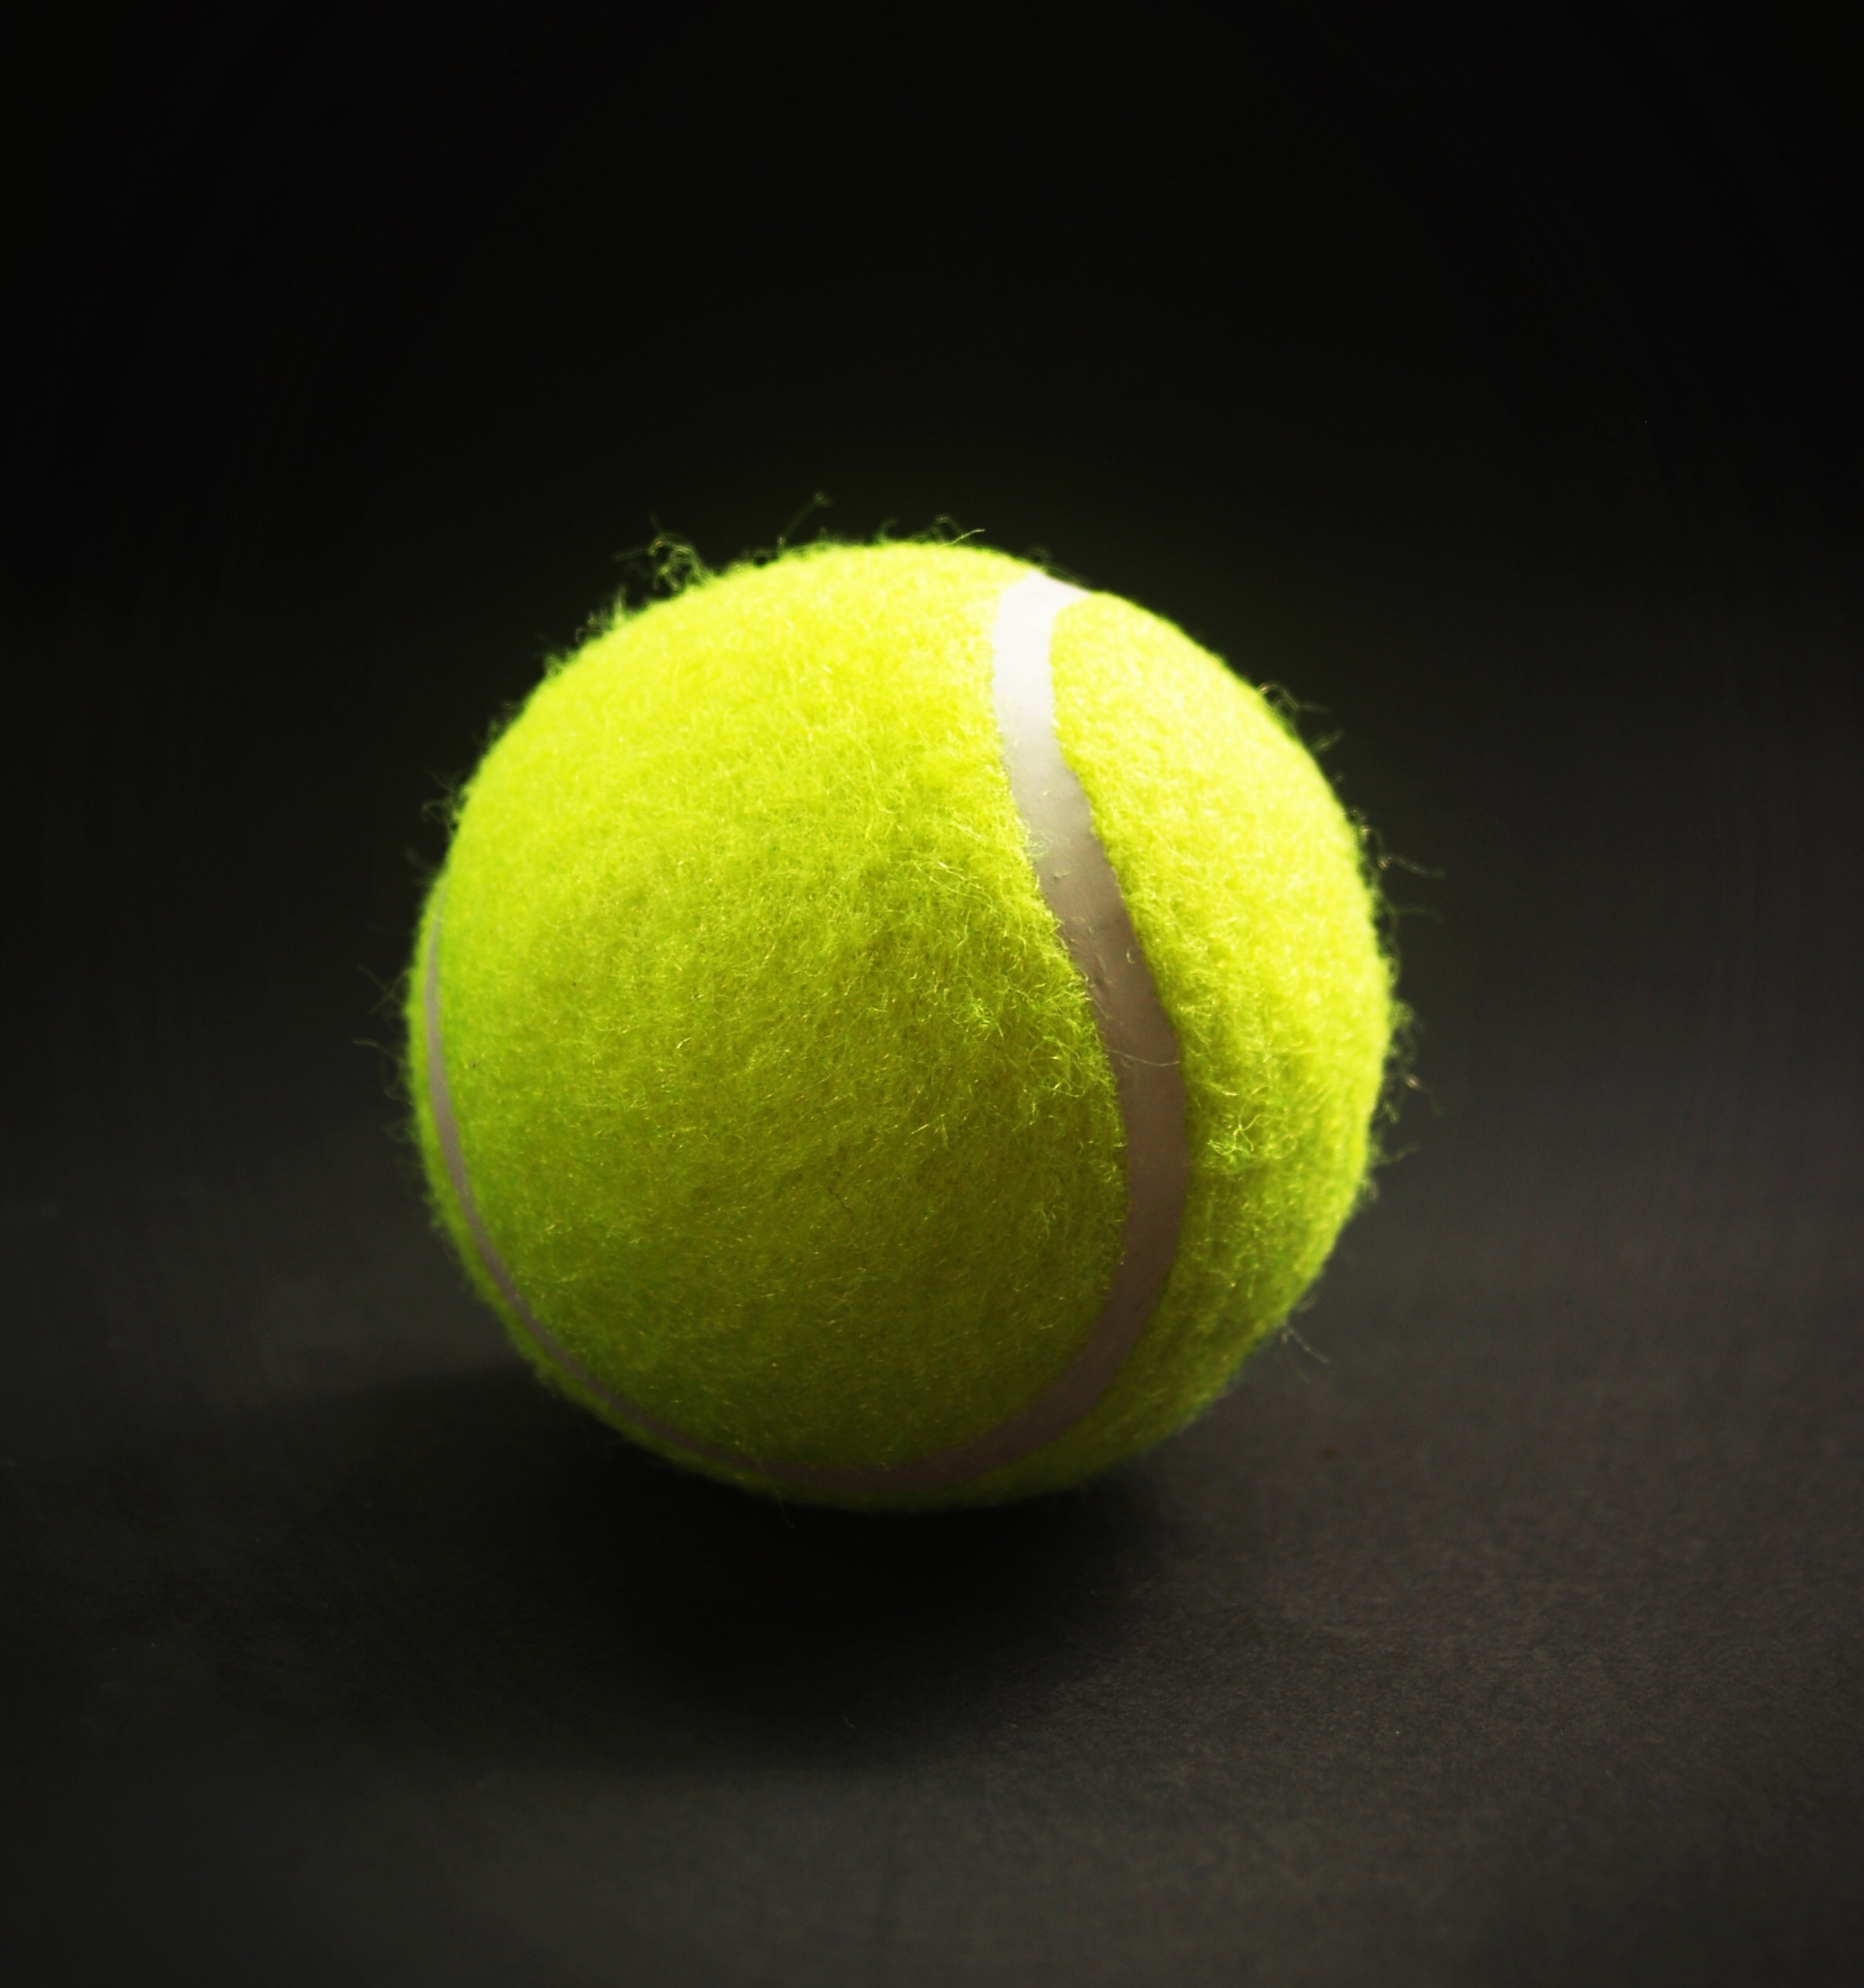aim: (410, 546, 1394, 1513)
